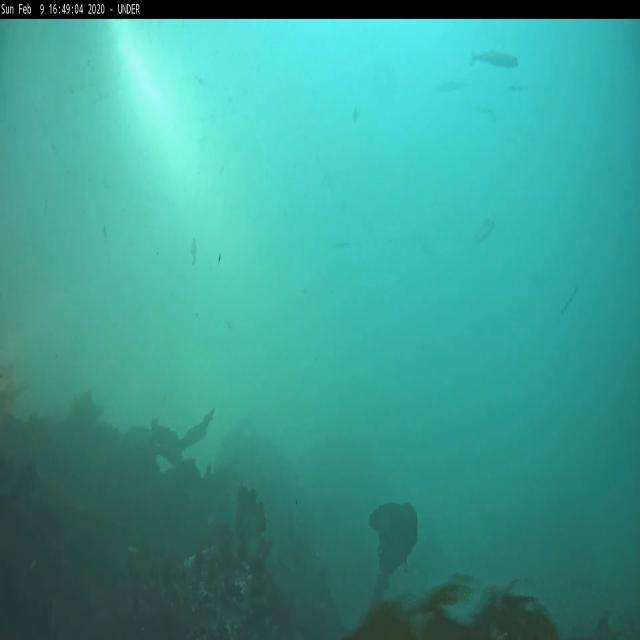fish: (470, 45, 520, 72), (474, 218, 497, 242)
